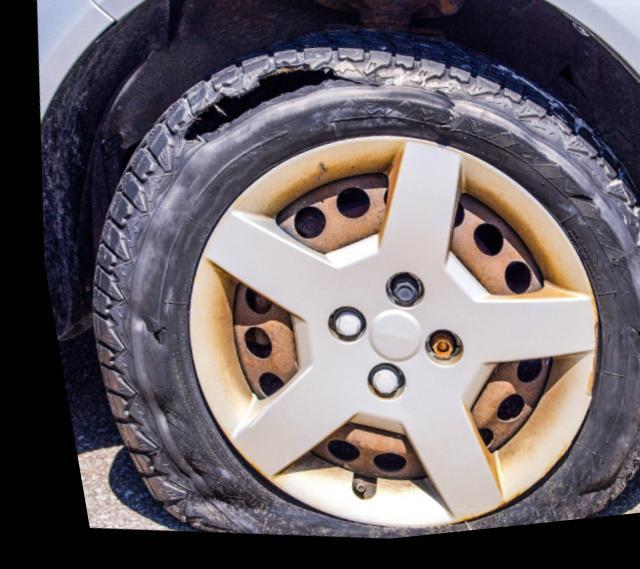tire flat: (81, 33, 640, 545)
